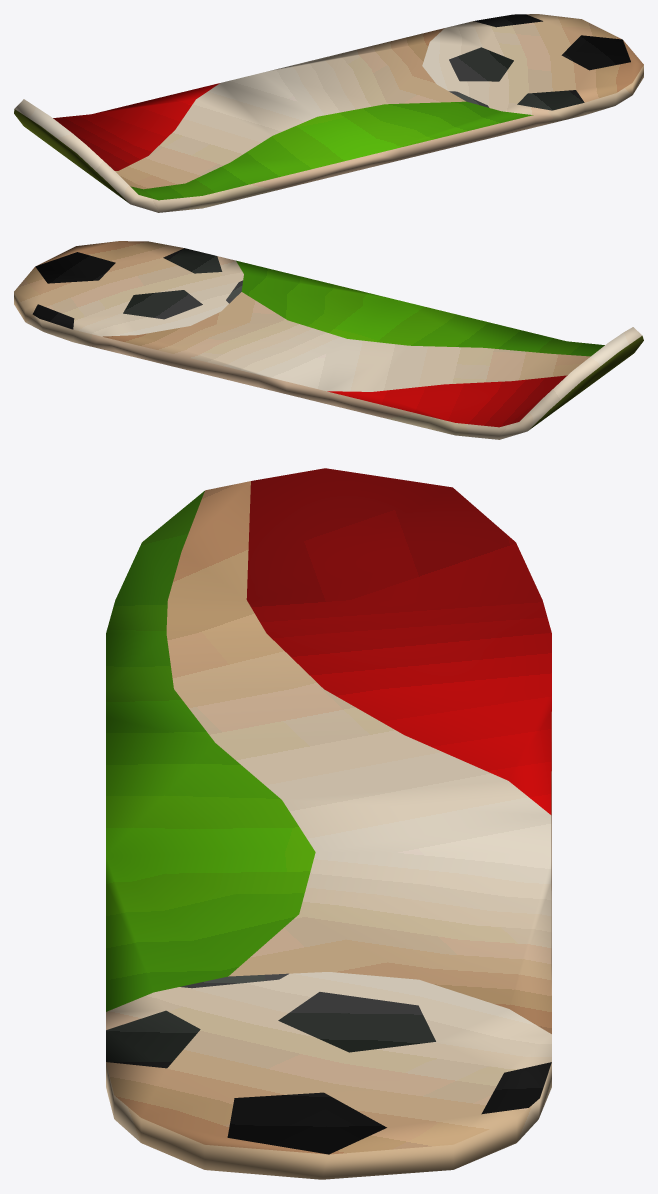
File: Soccer.glb
3 views of the same model, one above another, from view 1: azimuth 30°, elevation 25°; view 2: azimuth 150°, elevation 25°; view 3: azimuth 270°, elevation 25° (orthographic). The views are drawn at different scales.
Visible parts, largest first — view 1: Soccer; view 2: Soccer; view 3: Soccer.
Boxes of the visible parts, x1,y1,x2,y2 form: Soccer: [14, 14, 643, 212]; Soccer: [14, 241, 643, 439]; Soccer: [106, 468, 551, 1179].
Bounding box in the file's own units: 8.25 × 1.03 × 2.73.
1 material, 1 textured.
